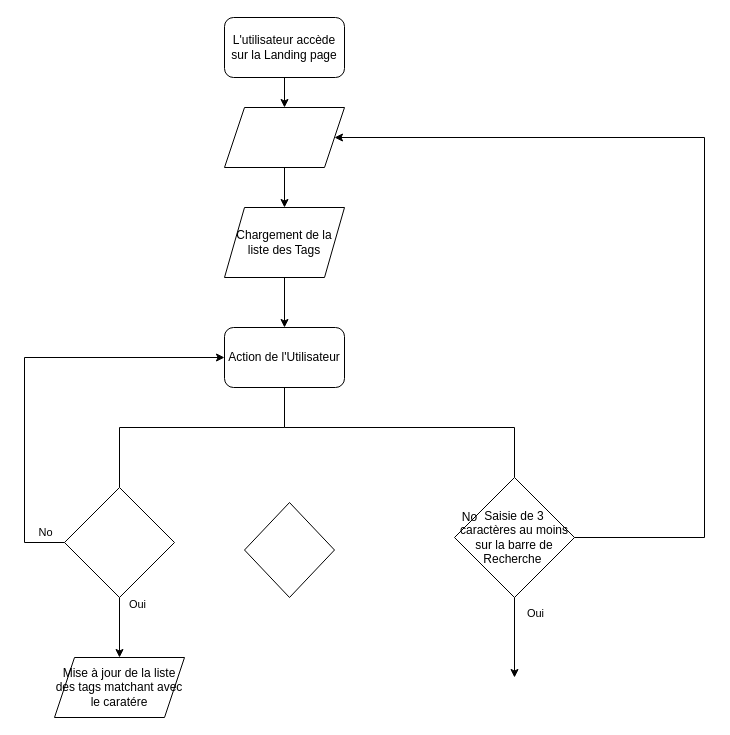
Image size: 730x735. Some labels were removed from this diagram. The centre of each missing label's shape, as x and y in pixels:
"Affichage de la liste des Recettes" goes at (284,137).
"Saisie d'un caractère sur les champs des Tags" goes at (119,542).
